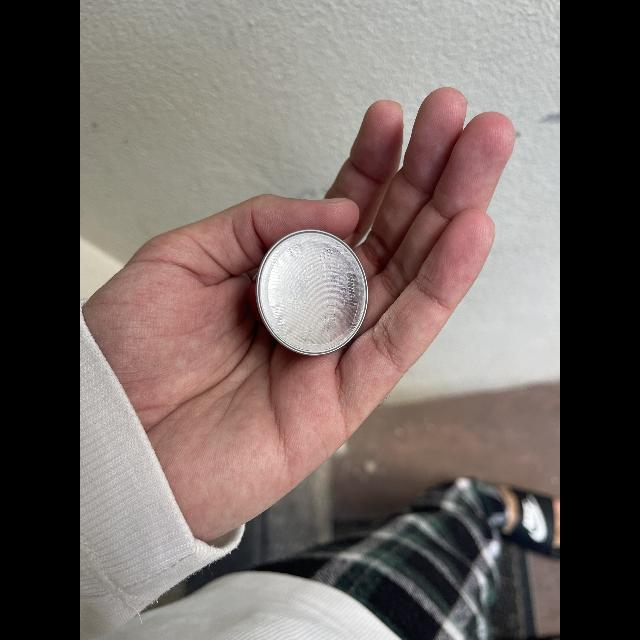intact_capsule: (247, 215, 371, 358)
